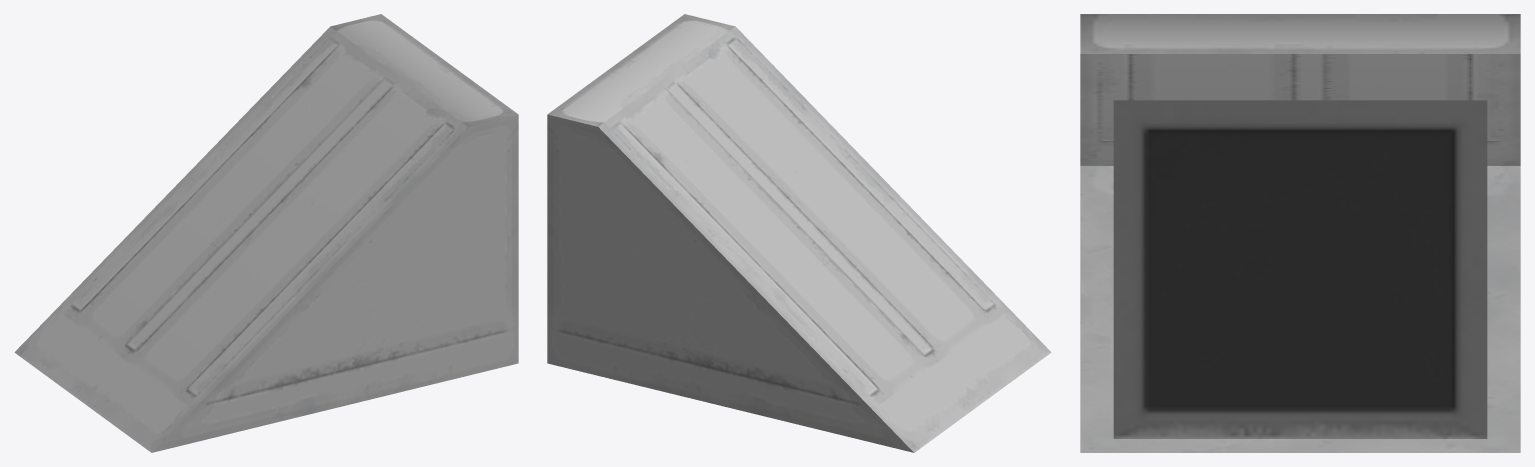
File: MB_Ventilation_05.fbx
The picture shows the model from 3 angles, left to right: view 1: azimuth 30°, elevation 25°; view 2: azimuth 150°, elevation 25°; view 3: azimuth 270°, elevation 25°; orthographic projection. The views are drawn at different scales.
Parts seen in each view (by area): view 1: MB_Ventilation_05; view 2: MB_Ventilation_05; view 3: MB_Ventilation_05.
Boxes of the visible parts, box(x1,y1,x2,y2) form: MB_Ventilation_05: box(14, 14, 518, 452); MB_Ventilation_05: box(547, 14, 1051, 452); MB_Ventilation_05: box(1080, 14, 1520, 452).
Bounding box in the file's own units: 44.11 × 28.59 × 28.59.
